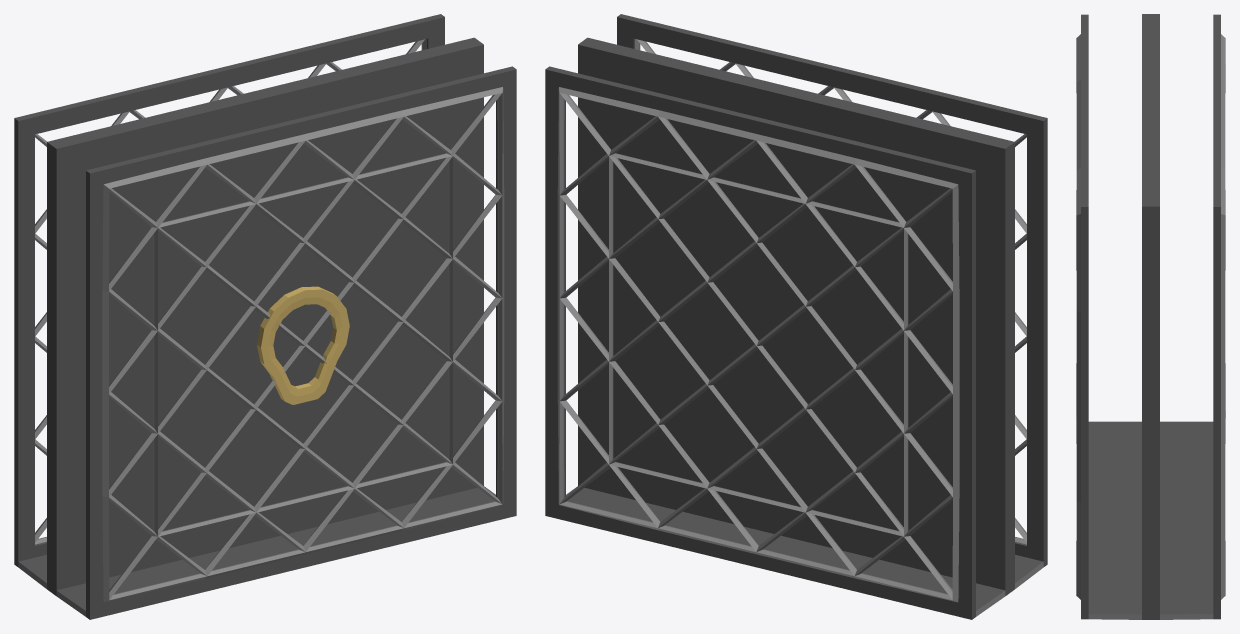
Rendered from Porte.fbx.
3 renders of one model, left to right at view 1: azimuth 30°, elevation 25°; view 2: azimuth 150°, elevation 25°; view 3: azimuth 270°, elevation 25°, orthographic. The views are drawn at different scales.
Parts seen in each view (by area): view 1: Porte; view 2: Porte; view 3: Porte.
Boxes of the visible parts, x1=… form: Porte: x1=14, y1=14, x2=516, y2=619; Porte: x1=545, y1=14, x2=1047, y2=619; Porte: x1=1076, y1=14, x2=1225, y2=619.
Bounding box in the file's own units: 300 × 300 × 98.22.
